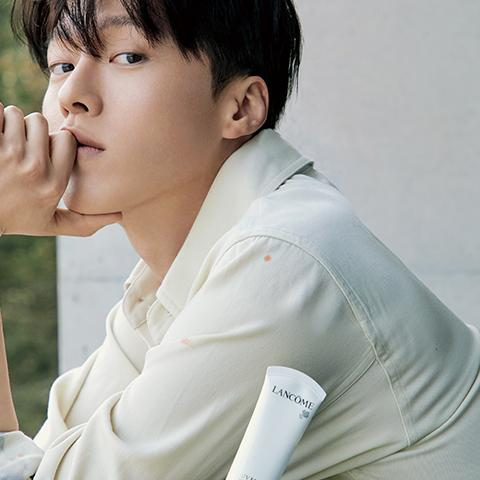opened: (33, 34, 168, 91)
